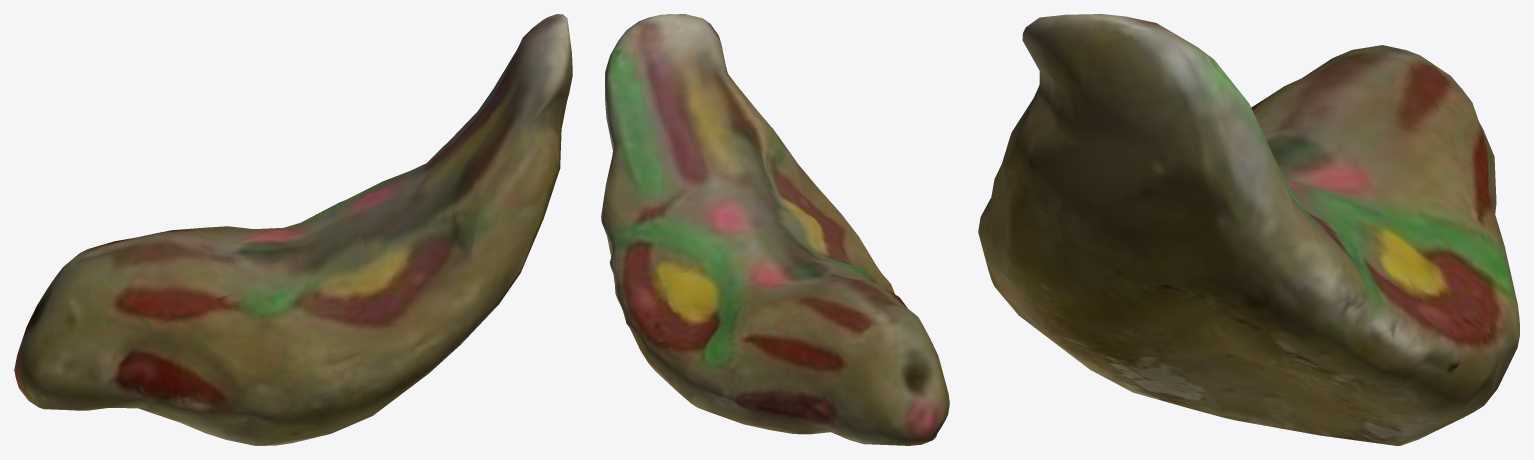
Rendered from hall.glb.
3 renders of one model, left to right at view 1: azimuth 30°, elevation 25°; view 2: azimuth 150°, elevation 25°; view 3: azimuth 270°, elevation 25°, orthographic. The views are drawn at different scales.
Bounding box in the file's own units: 0.4322 × 0.336 × 0.2889.
1 material, 1 textured.
